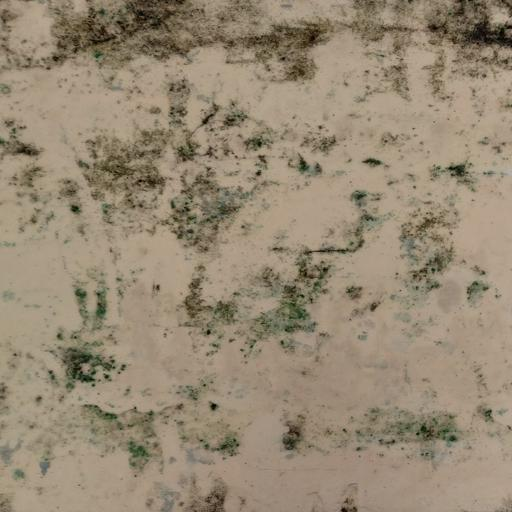algae: (9, 0, 501, 457)
